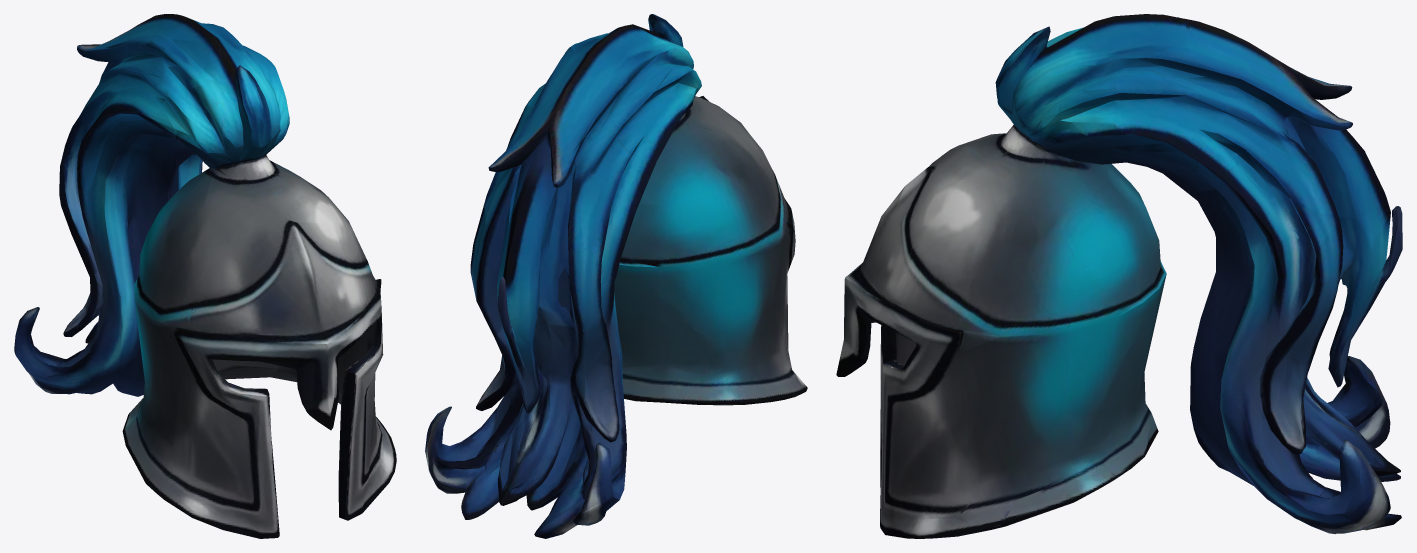
File: guard_helm.glb
3 views of the same model, side by side, from view 1: azimuth 30°, elevation 25°; view 2: azimuth 150°, elevation 25°; view 3: azimuth 270°, elevation 25° (orthographic). The views are drawn at different scales.
Visible parts, largest first — view 1: world; view 2: world; view 3: world.
Boxes of the visible parts, bbox=[...] form: world: bbox=[14, 14, 396, 538]; world: bbox=[425, 14, 807, 538]; world: bbox=[836, 14, 1402, 538].
Size of the model in its own units: 0.27 by 0.4602 by 0.4778.
1 material, 1 textured.
